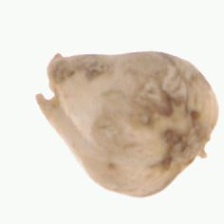L1: (32, 54, 66, 106), (175, 123, 211, 168)
L2: (31, 52, 219, 197)
